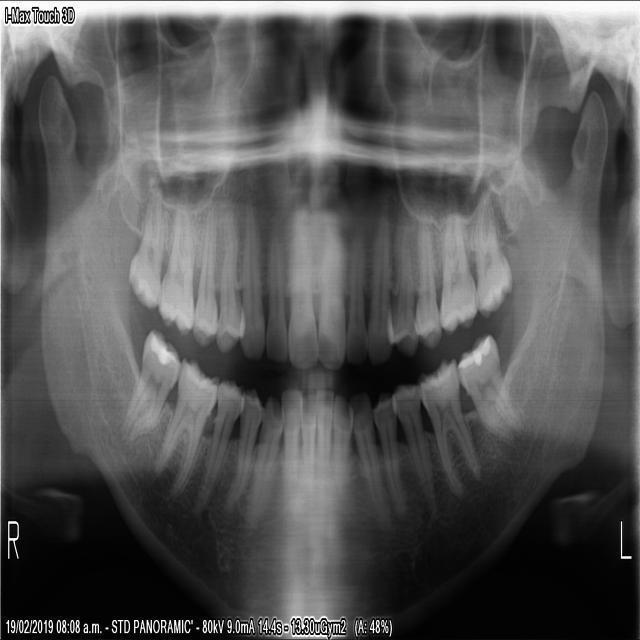LCD: (345, 386, 383, 526)
LCU: (362, 212, 392, 365)
LID: (331, 394, 350, 496), (314, 389, 331, 498)
LIU: (312, 214, 345, 372), (341, 228, 366, 366)
LMD: (414, 349, 479, 496), (453, 329, 526, 438)
LMU: (468, 192, 511, 320), (434, 206, 477, 333)
LPMD: (388, 380, 435, 522), (368, 387, 402, 514)
LPMU: (384, 214, 417, 357), (411, 208, 441, 350)
RCD: (243, 394, 284, 514)
RCU: (238, 214, 262, 356)
RID: (279, 388, 300, 516), (296, 395, 314, 502)
RIU: (284, 199, 318, 368), (261, 217, 286, 361)
RMD: (150, 352, 216, 495), (120, 327, 178, 437)
RMU: (155, 203, 192, 333), (126, 187, 158, 307)
RPMD: (190, 380, 243, 509), (220, 389, 261, 507)
RPMU: (214, 213, 243, 349), (190, 210, 214, 343)
